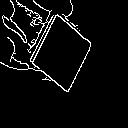cube: (16, 11, 105, 98)
